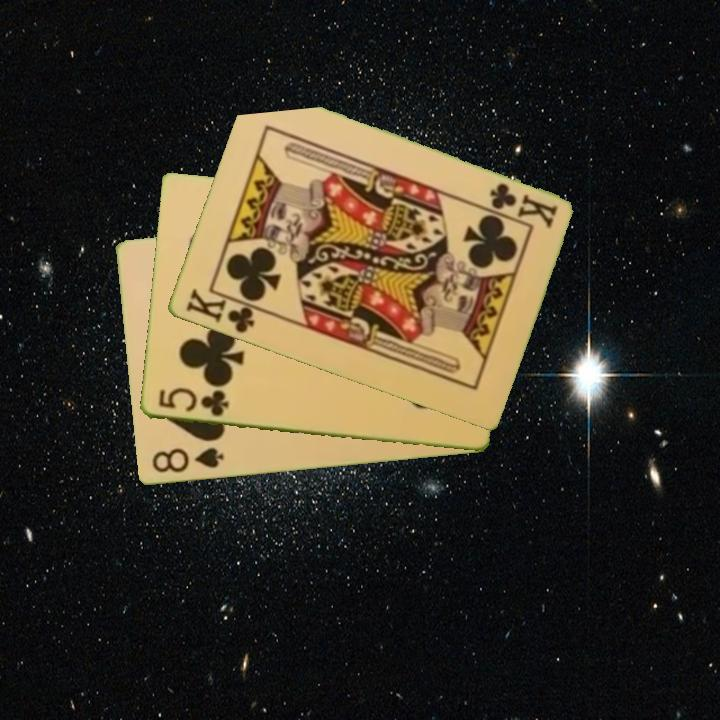5c: (155, 384, 231, 420)
8s: (148, 445, 226, 476)
Kc: (182, 285, 265, 337), (485, 179, 560, 230)
